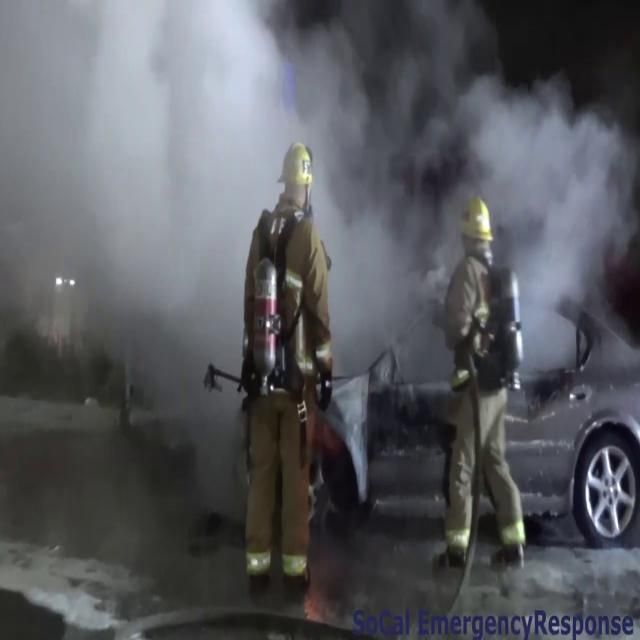Smoke: (1, 0, 635, 333)
